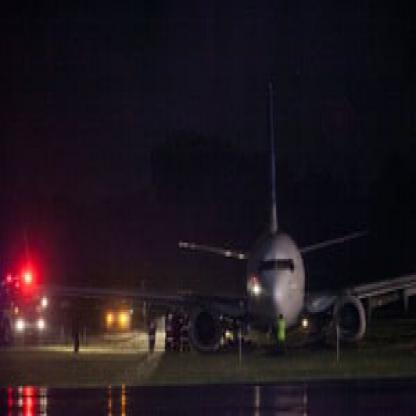CIV_Plane: (24, 74, 412, 356)
